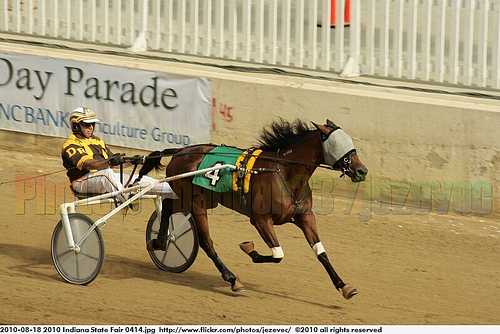horse: (154, 118, 369, 301)
